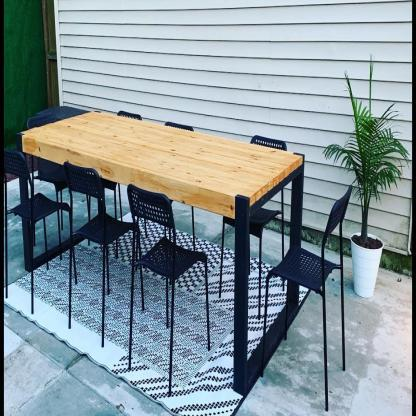table: (11, 106, 306, 397)
